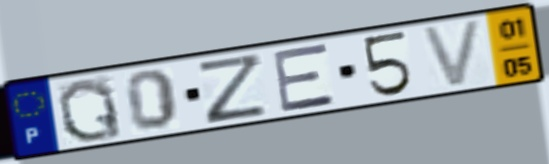0: (122, 67, 181, 134)
5: (359, 28, 413, 100)
E: (269, 41, 340, 115)
Q: (54, 76, 127, 145)
V: (417, 16, 487, 91)
Z: (194, 50, 271, 126)
